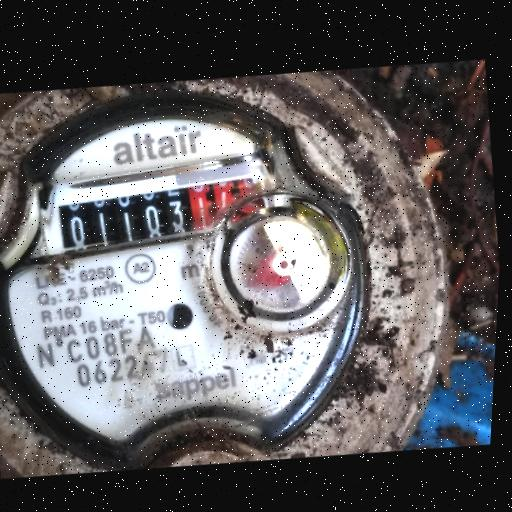0: (56, 200, 96, 254), (136, 188, 175, 240)
1: (83, 196, 123, 249), (110, 192, 149, 245), (185, 181, 222, 232), (210, 177, 246, 222)
3: (162, 185, 199, 236)
border_water_meter_number: (45, 153, 276, 273)
